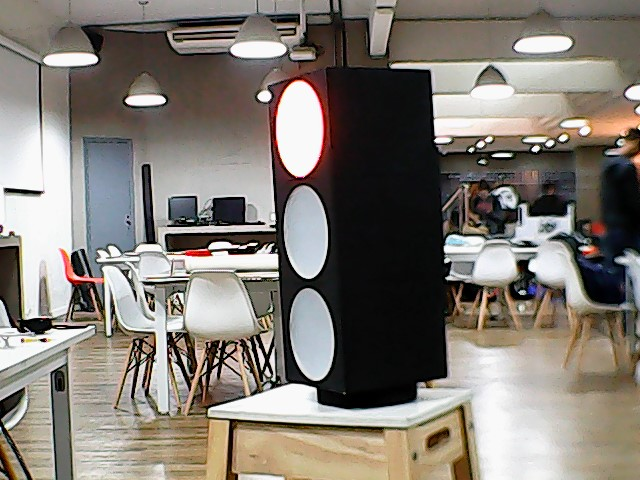vermelho: (259, 62, 459, 384)
